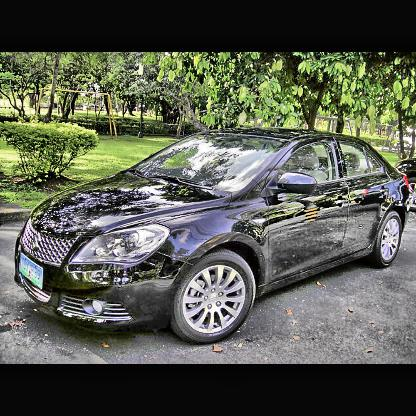Suzuki Kizashi Sedan 2012: (12, 125, 412, 347)
